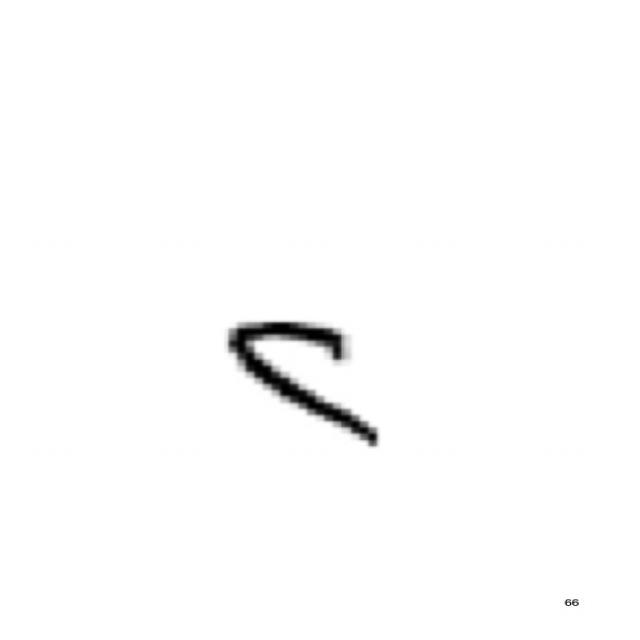2 -two-: (212, 308, 396, 457)
